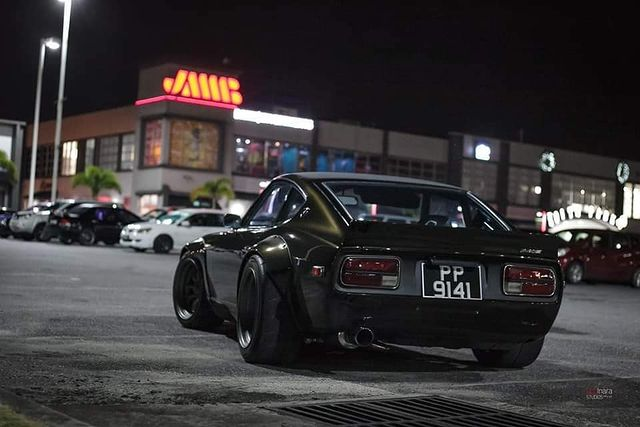License-Plate: (423, 264, 480, 297)
